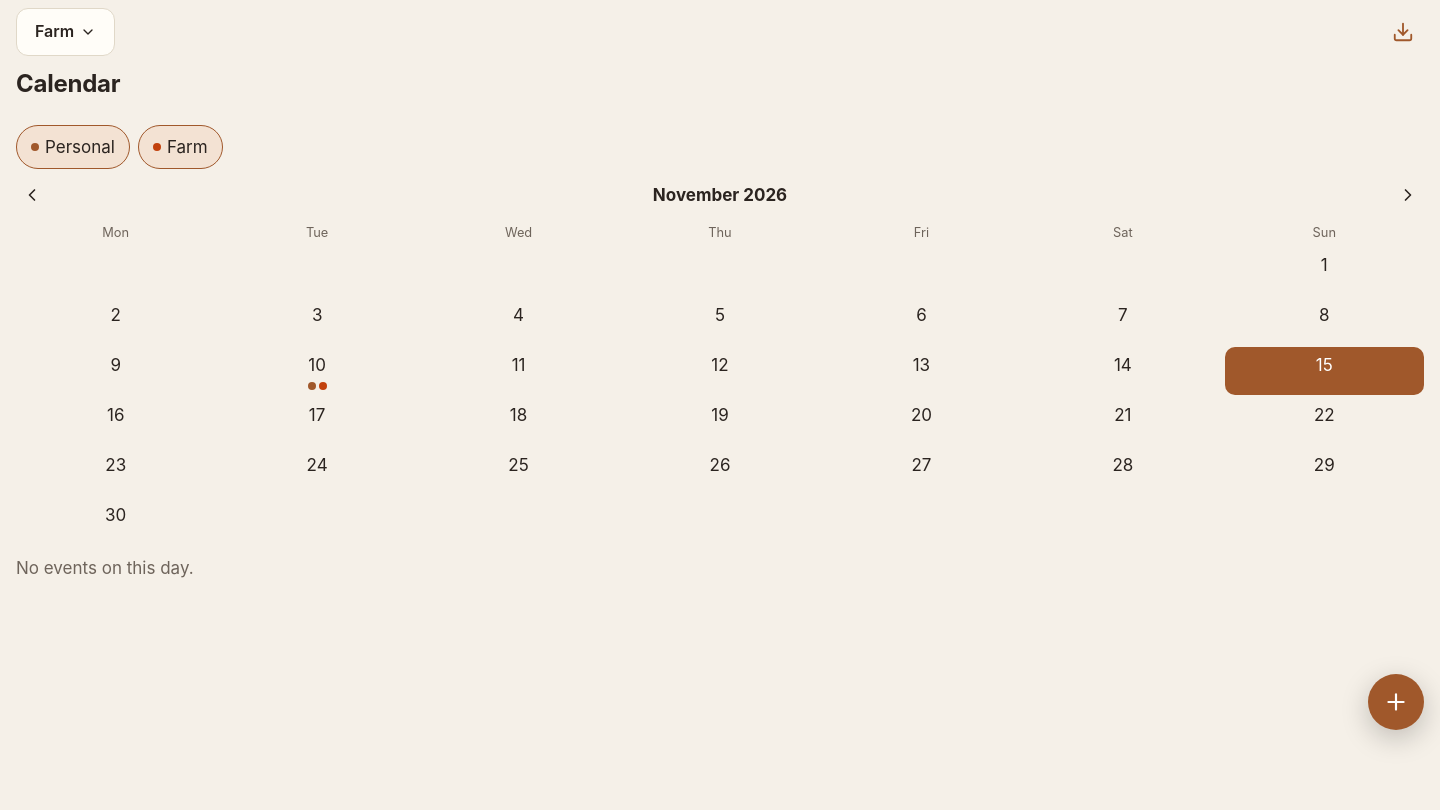
Test: CalendarPage › toggling a layer hides its events and remembers the choice
The image size is (1440, 810).
Step 1. Click the button named "2026-11-10" → (317, 371), box [217,347,417,395]
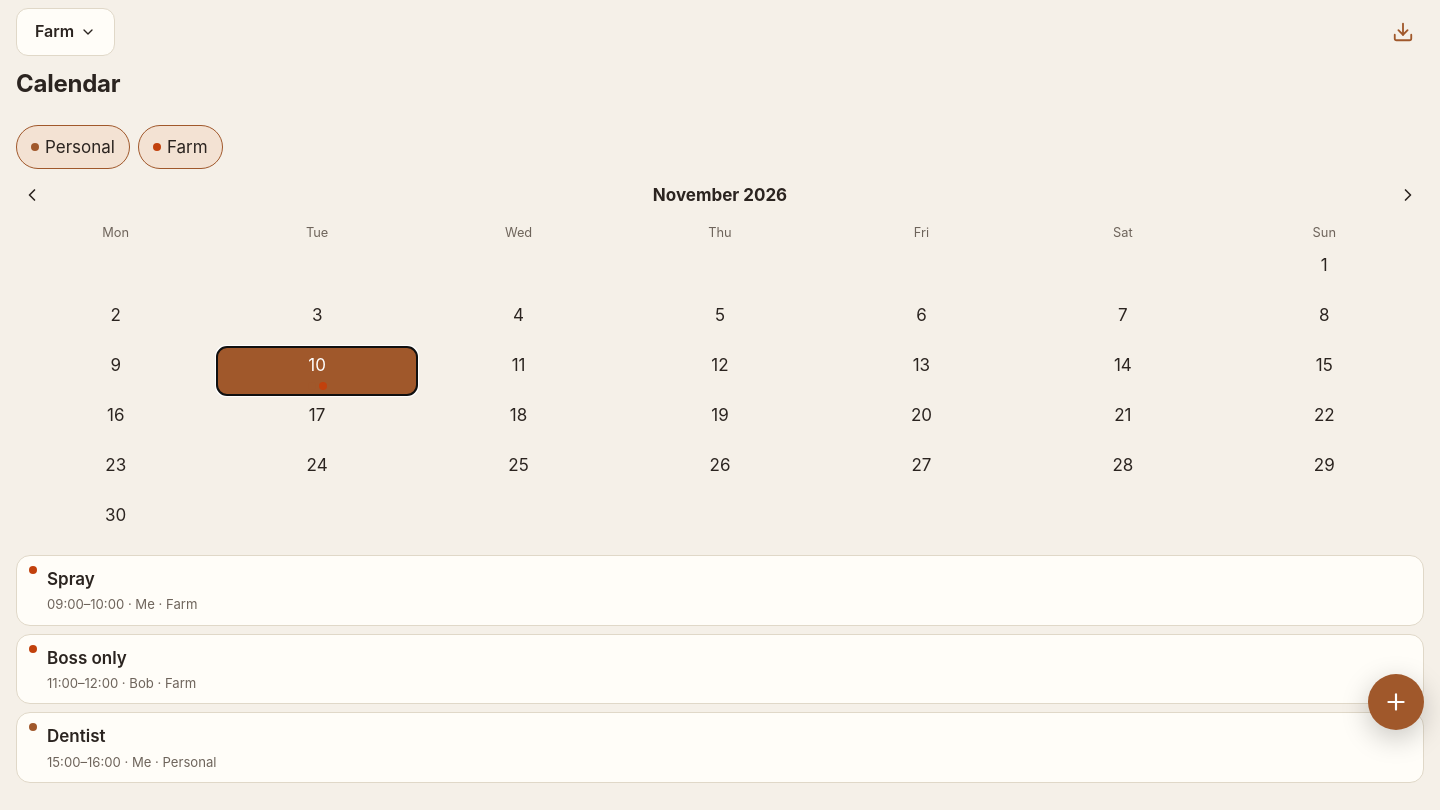
Step 2. Click the button "Farm" below "Calendar" → (180, 147), box [138,125,223,169]
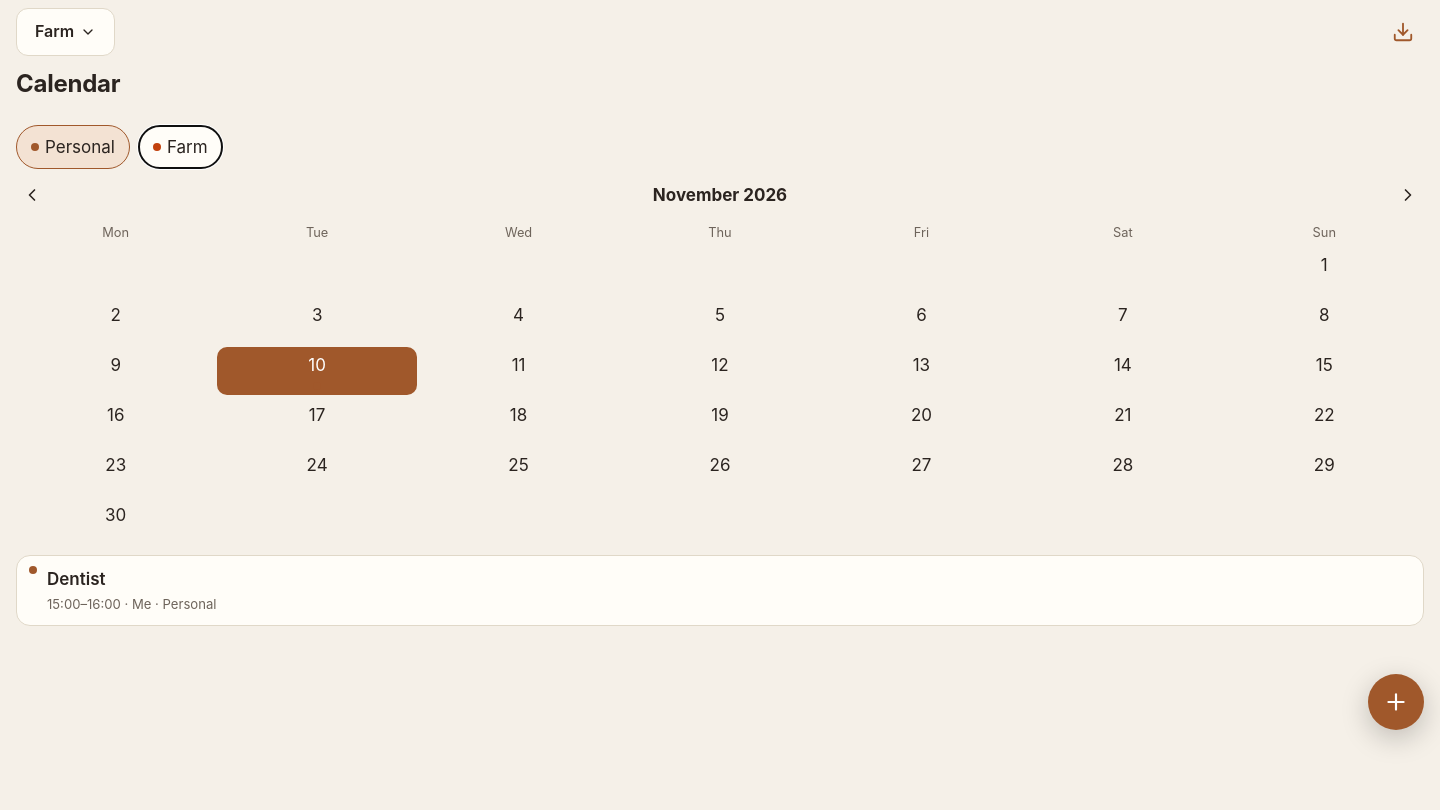
Expected: the text "Dentist" is shown, [47,569,106,589]
Expected: the button "Spray" is gone
